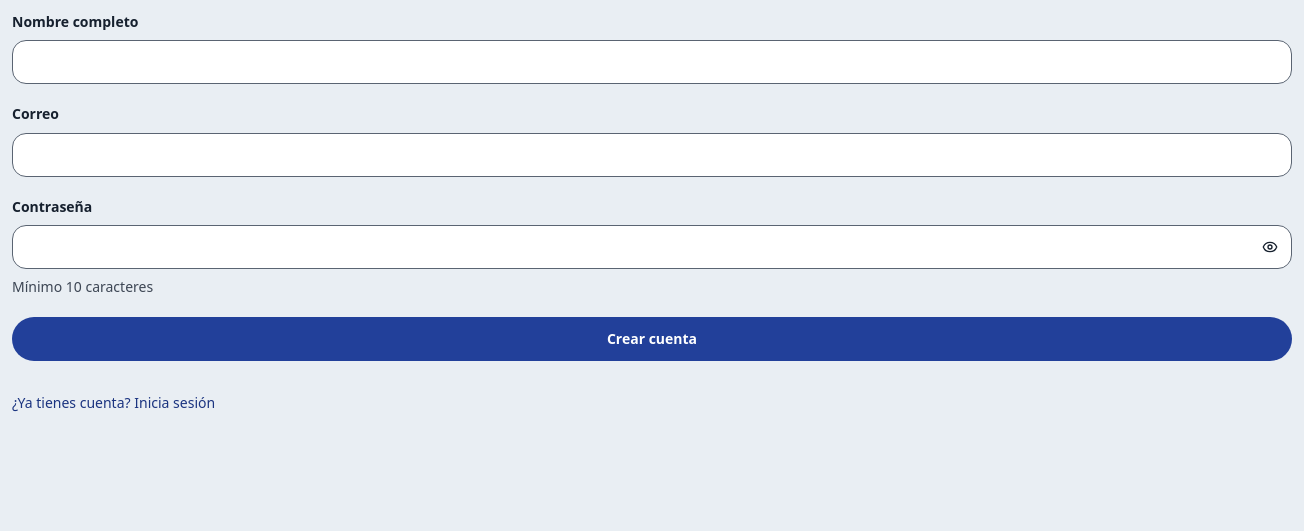
CHORE-03 · formularios de features/auth ante un VALIDACION fuera de contrato › CH3-C03: registro de estudiante con F1 campo no pintable («campoFueraDeContrato: Revisa este valor.») da un solo MensajeError legible, sin toast ni ErrorDeCampo
The width and height of the screenshot is (1304, 531).
Type "Ana López" into the field labelled "Nombre completo" at (652, 62), box x1=12 y1=40 x2=1292 y2=84
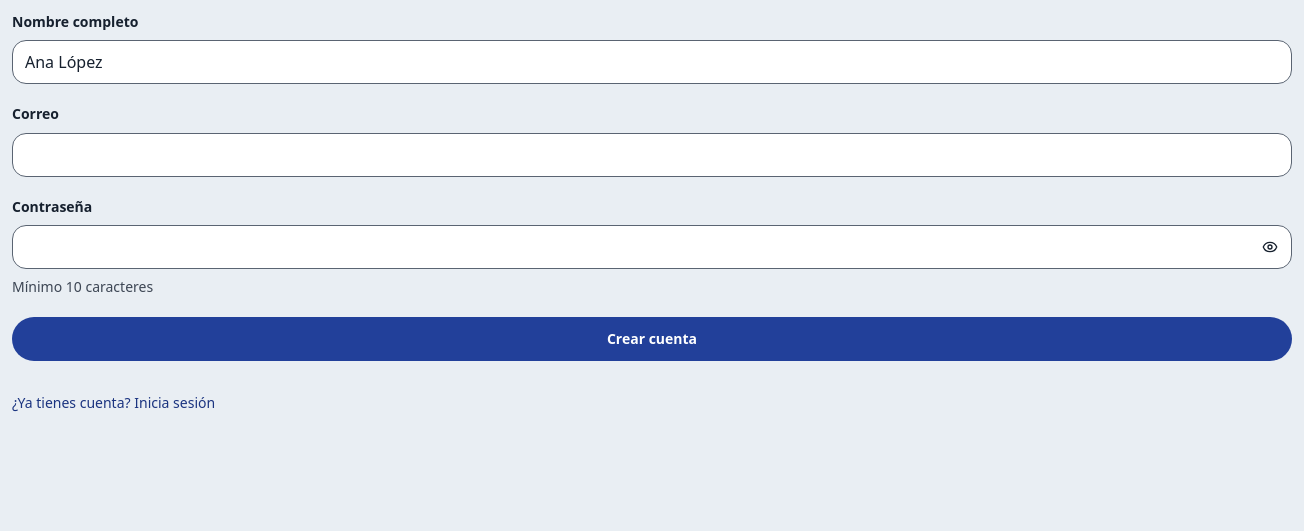
Type "ana@colegio.mx" into the field labelled "Correo" at (652, 155), box x1=12 y1=133 x2=1292 y2=177
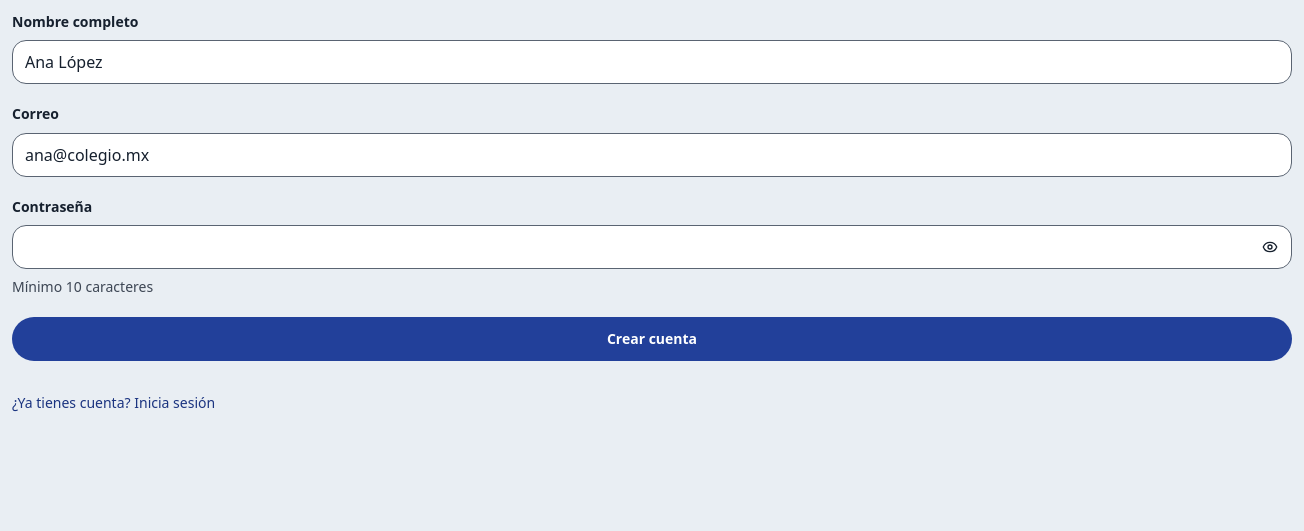
Type "clave-secreta-1234" into the password field labelled "Contraseña" at (652, 247), box x1=12 y1=225 x2=1292 y2=269
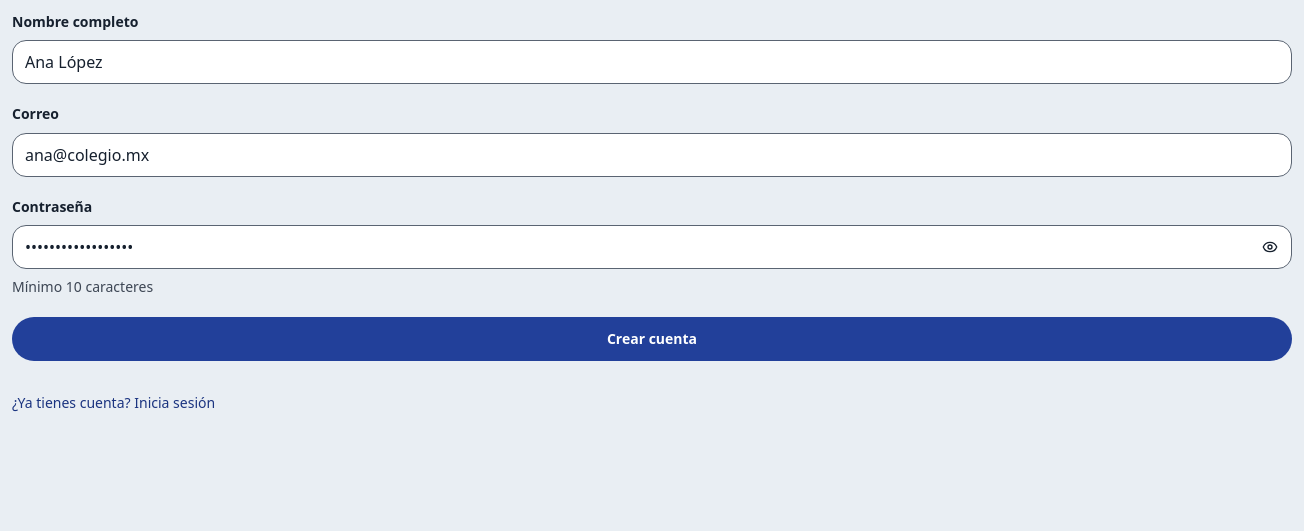
Click the button "Crear cuenta" at (652, 339), box x1=12 y1=317 x2=1292 y2=361
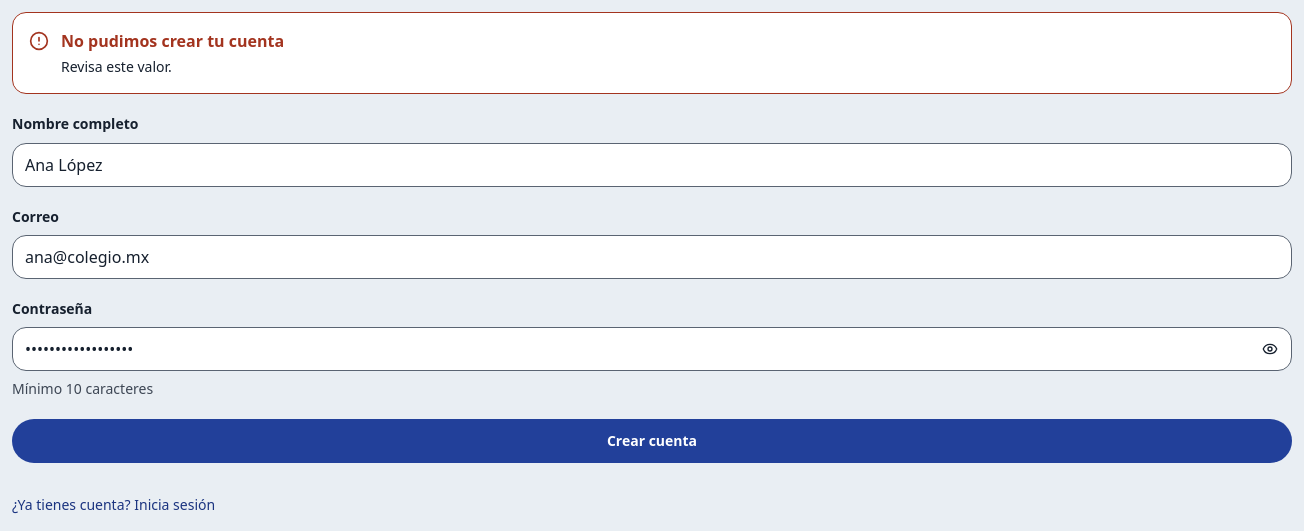
Expected: the message does not show "campoFueraDeContrato", x1=12 y1=12 x2=1292 y2=94
Expected: the number of messages is 1, x1=12 y1=12 x2=1292 y2=94
